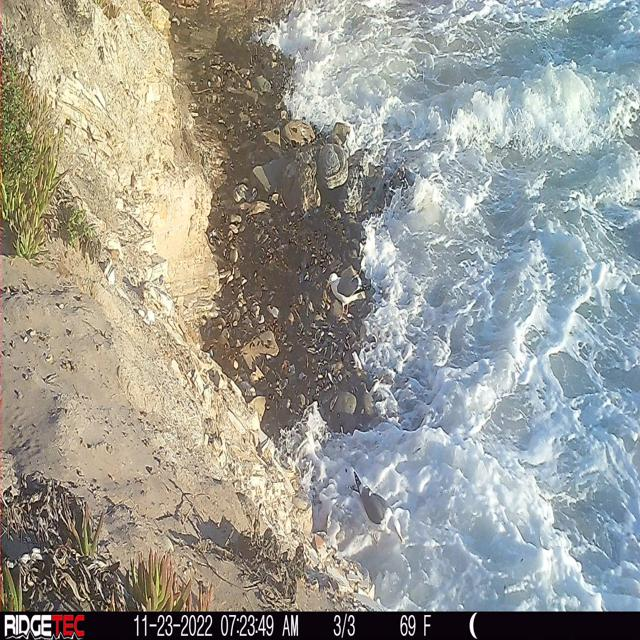bird: (328, 267, 366, 321)
